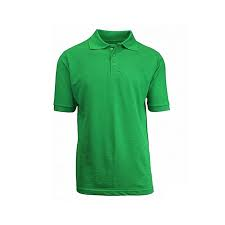C_polo shirt: (47, 22, 171, 201)
